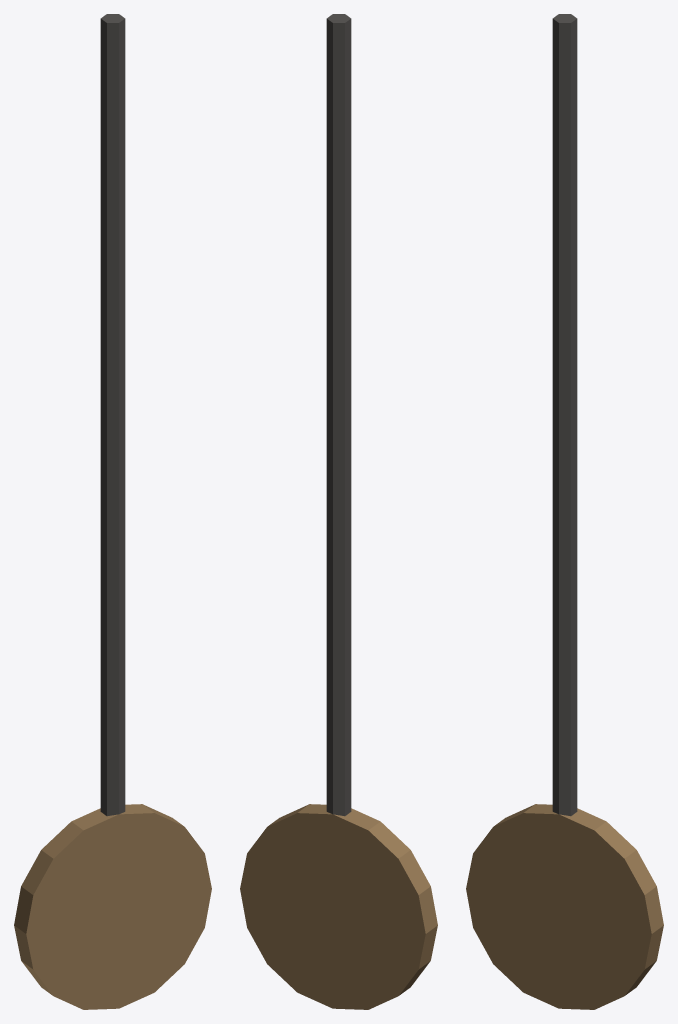
The model's file is cuckoo_pendulum.glb.
3 views of the same model, side by side, from view 1: azimuth 30°, elevation 25°; view 2: azimuth 150°, elevation 25°; view 3: azimuth 330°, elevation 25° (orthographic).
Visible parts, largest first — view 1: CuckooPendulum; view 2: CuckooPendulum; view 3: CuckooPendulum.
Part boxes in pixels (box(x1,y1,x2,y2)): CuckooPendulum: box(14, 14, 211, 1009); CuckooPendulum: box(240, 14, 437, 1009); CuckooPendulum: box(466, 14, 663, 1009).
Size of the model in its own units: 0.07 by 0.355 by 0.008.
